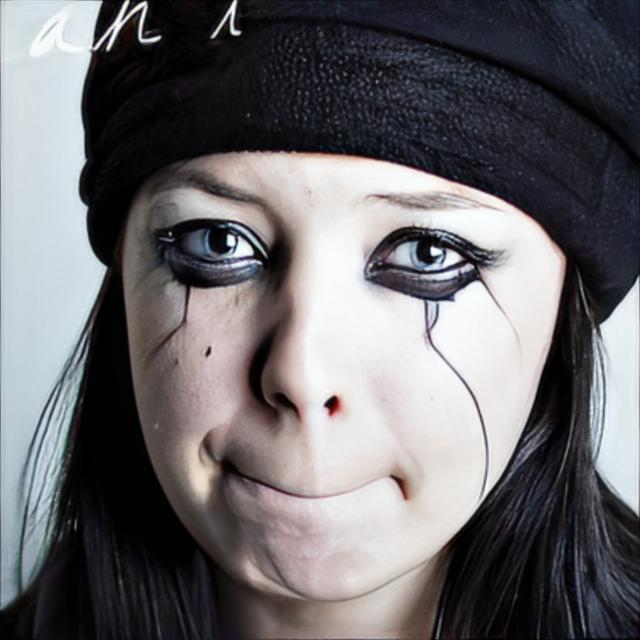sad: (118, 139, 566, 607)
